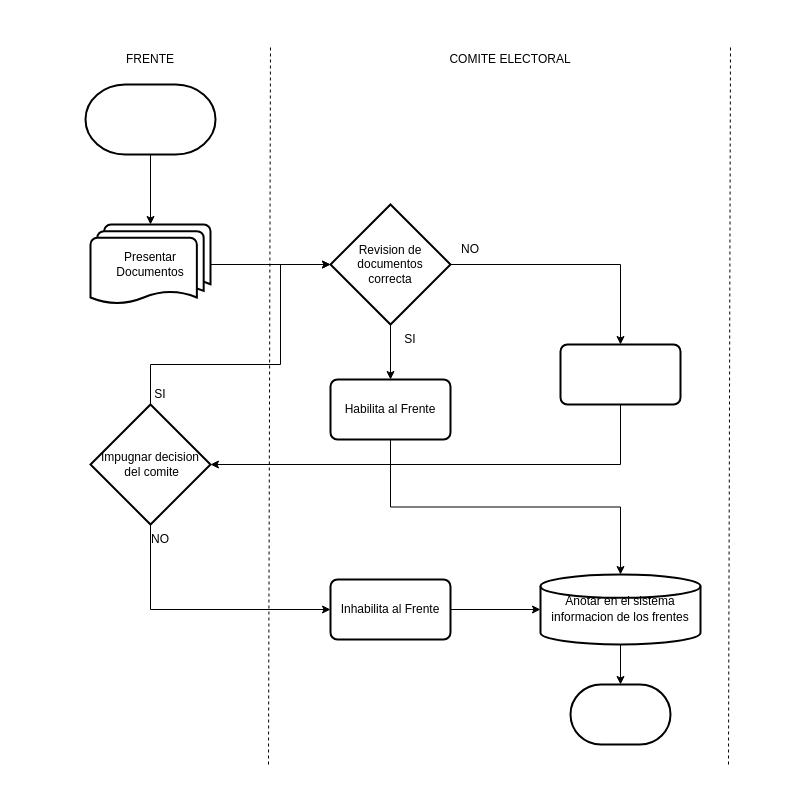
This 812x812 diagram has some shape labels left out. Each missing label, with the centre of its shape:
"Averiguar fechas de la convocatoria" belongs at (x=150, y=119).
"Cerrar Inscripciones" belongs at (x=620, y=714).
"Notifica cual es el problema en su documentacion" belongs at (x=620, y=374).
